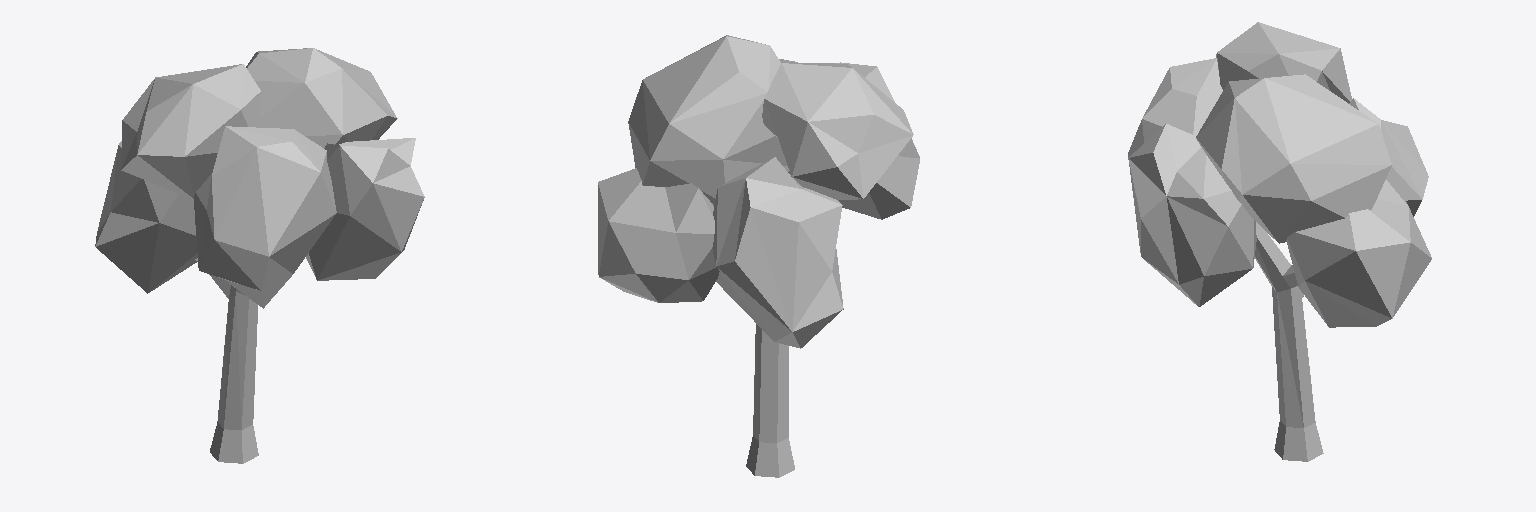
Rendered from Arbol5.obj.
3 renders of one model, left to right at view 1: azimuth 30°, elevation 25°; view 2: azimuth 150°, elevation 25°; view 3: azimuth 270°, elevation 25°, orthographic.
Parts seen in each view (by area): view 1: Tree_Type0_05_Model_Icosphere.028; view 2: Tree_Type0_05_Model_Icosphere.028; view 3: Tree_Type0_05_Model_Icosphere.028.
Part boxes in pixels (x1,y1,x2,y2): Tree_Type0_05_Model_Icosphere.028: (95, 48, 424, 463); Tree_Type0_05_Model_Icosphere.028: (598, 35, 919, 477); Tree_Type0_05_Model_Icosphere.028: (1128, 22, 1431, 461).
Size of the model in its own units: 2.32 by 3.39 by 2.32.